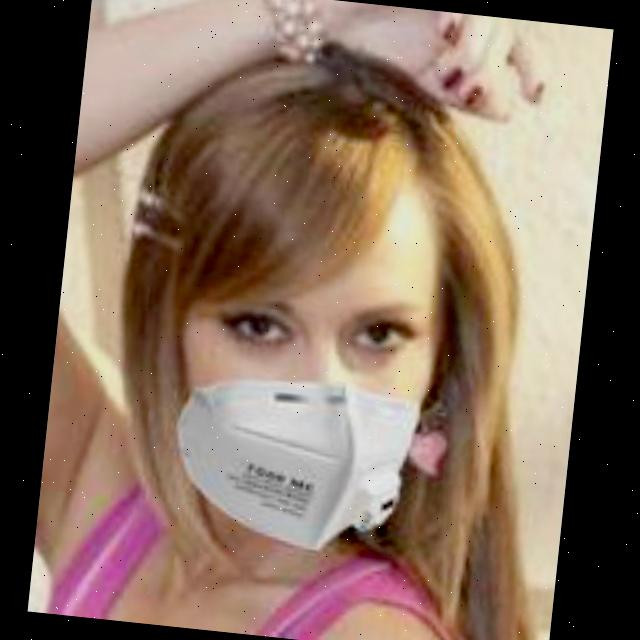suspicion: (124, 44, 506, 578)
